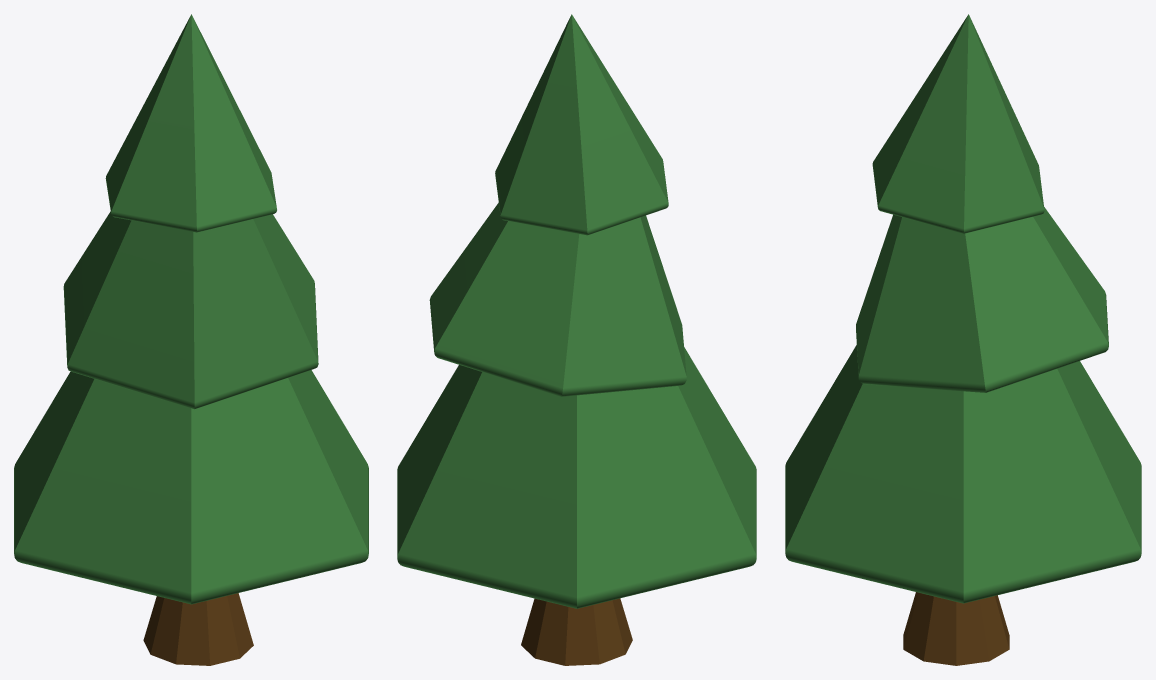
The model's file is Small_Tree_01.fbx.
The picture shows the model from 3 angles, left to right: view 1: azimuth 30°, elevation 25°; view 2: azimuth 150°, elevation 25°; view 3: azimuth 270°, elevation 25°; orthographic projection.
Visible parts, largest first — view 1: small_tree_leaves_01, small_tree_leaves_02, small_tree_leaves03, small_tree_base; view 2: small_tree_leaves_01, small_tree_leaves_02, small_tree_leaves03, small_tree_base; view 3: small_tree_leaves_01, small_tree_leaves_02, small_tree_leaves03, small_tree_base.
Part boxes in pixels (box(x1,y1,x2,y2)): small_tree_leaves_01: box(14, 370, 368, 604); small_tree_leaves_02: box(63, 211, 318, 409); small_tree_leaves03: box(105, 14, 276, 232); small_tree_base: box(143, 593, 253, 665); small_tree_leaves_01: box(397, 347, 756, 608); small_tree_leaves_02: box(429, 203, 686, 396); small_tree_leaves03: box(495, 14, 668, 235); small_tree_base: box(521, 598, 632, 665); small_tree_leaves_01: box(785, 345, 1141, 603); small_tree_leaves_02: box(856, 207, 1108, 392); small_tree_leaves03: box(872, 14, 1044, 233); small_tree_base: box(903, 592, 1009, 665).
Bounding box in the file's own units: 187 × 315 × 162.
